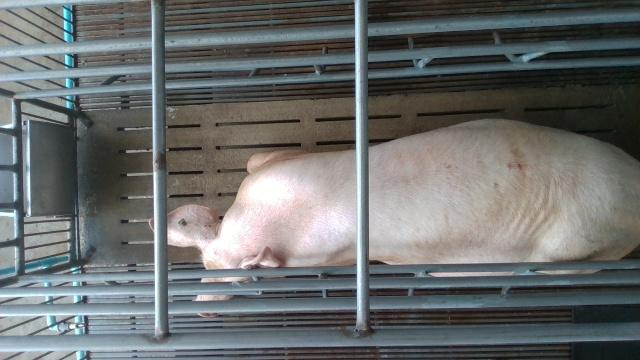sow-sit: (148, 116, 640, 318)
